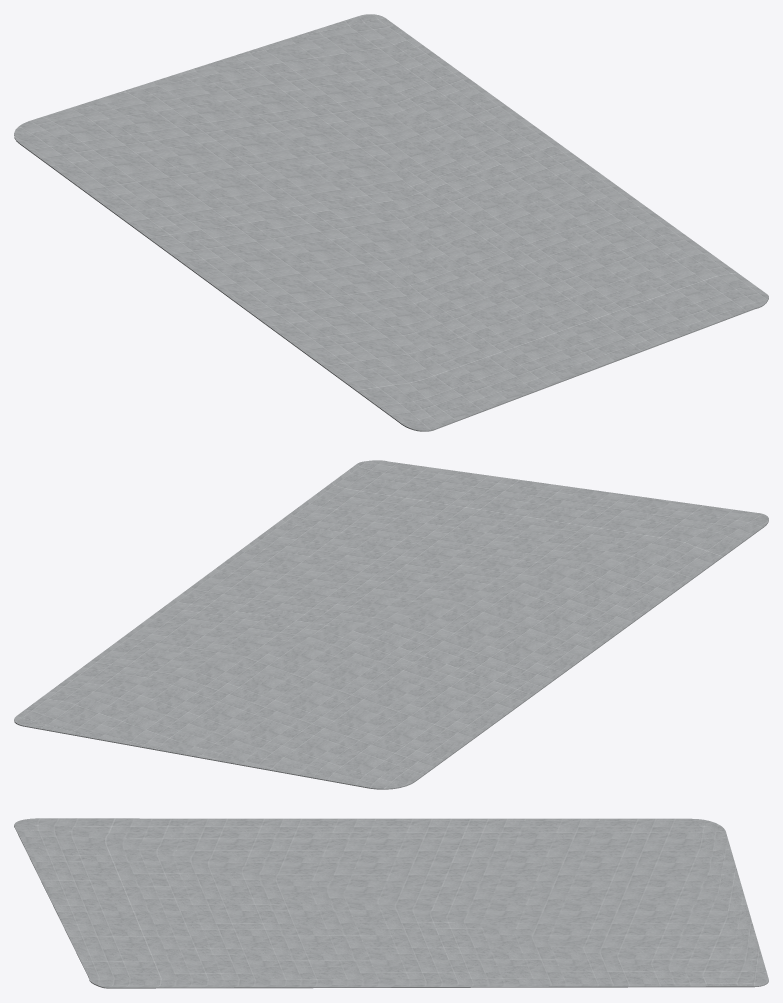
The model's file is path.fbx.
3 views of the same model, one above another, from view 1: azimuth 30°, elevation 25°; view 2: azimuth 150°, elevation 25°; view 3: azimuth 270°, elevation 25° (orthographic). The views are drawn at different scales.
Parts seen in each view (by area): view 1: Cube.180; view 2: Cube.180; view 3: Cube.180.
Boxes of the visible parts, x1=… form: Cube.180: x1=14, y1=14, x2=768, y2=431; Cube.180: x1=14, y1=460, x2=768, y2=789; Cube.180: x1=14, y1=818, x2=768, y2=988.
Size of the model in its own units: 11656 by 26.78 by 21961.
